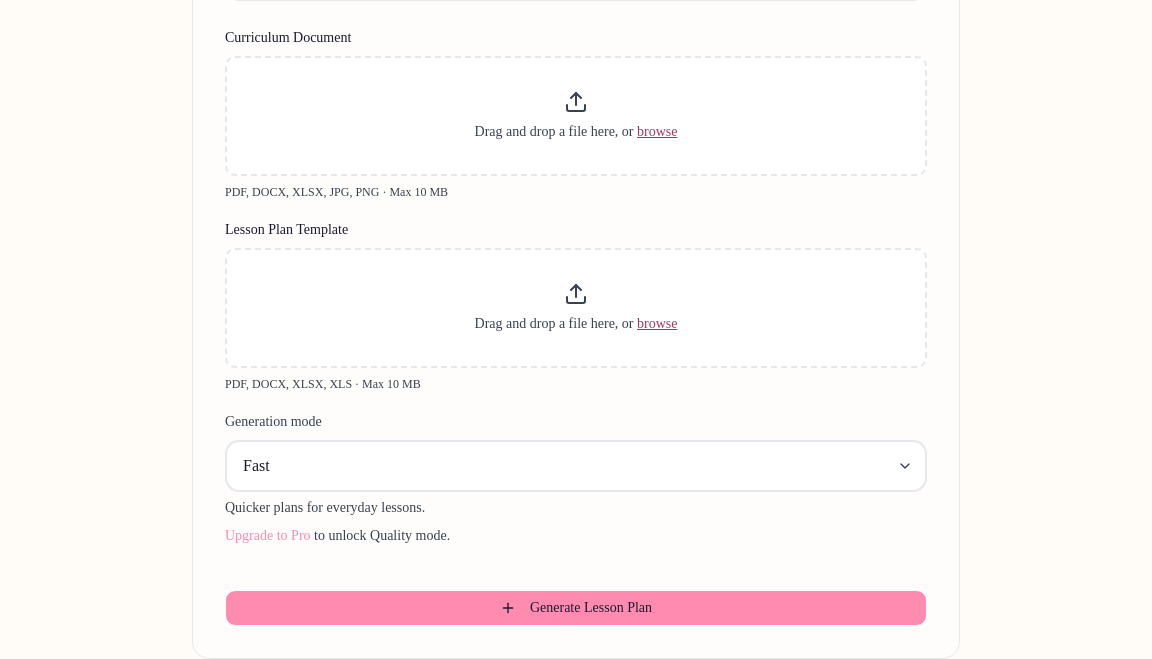
Scenario: GenerateClient › shows UpgradePrompt on 402 without trapping the overlay
(page scrolled)
Click the button "Generate Lesson Plan" at (576, 608), box [225, 590, 927, 626]
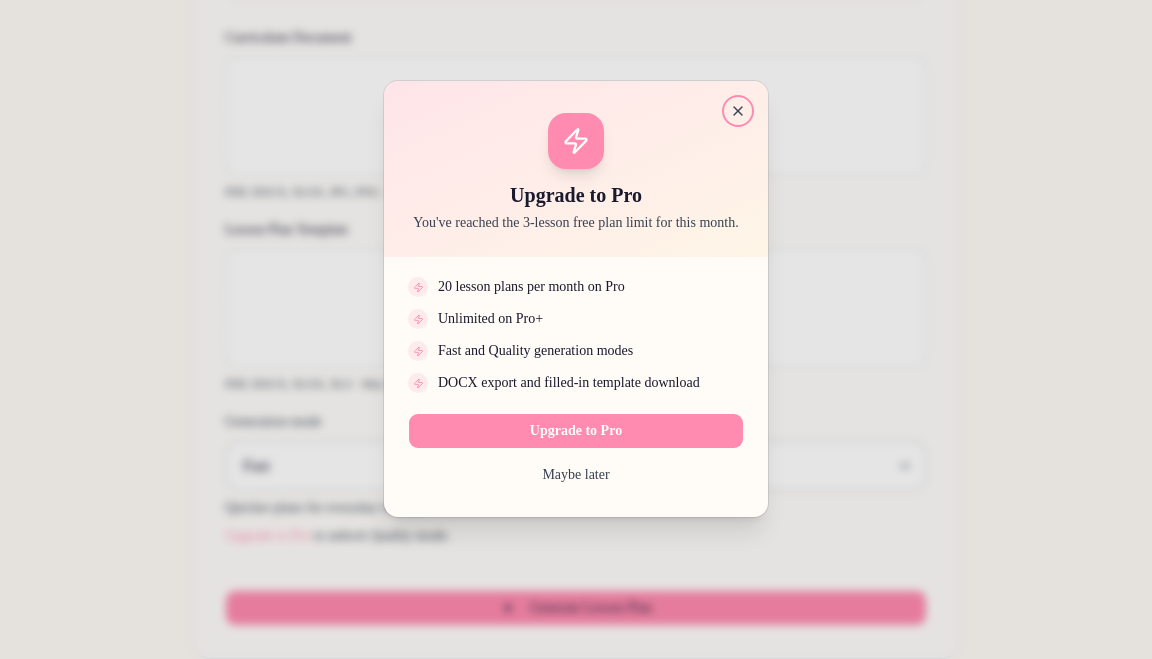
Expected: the heading "Upgrade to Pro" is shown, [510, 184, 642, 206]
